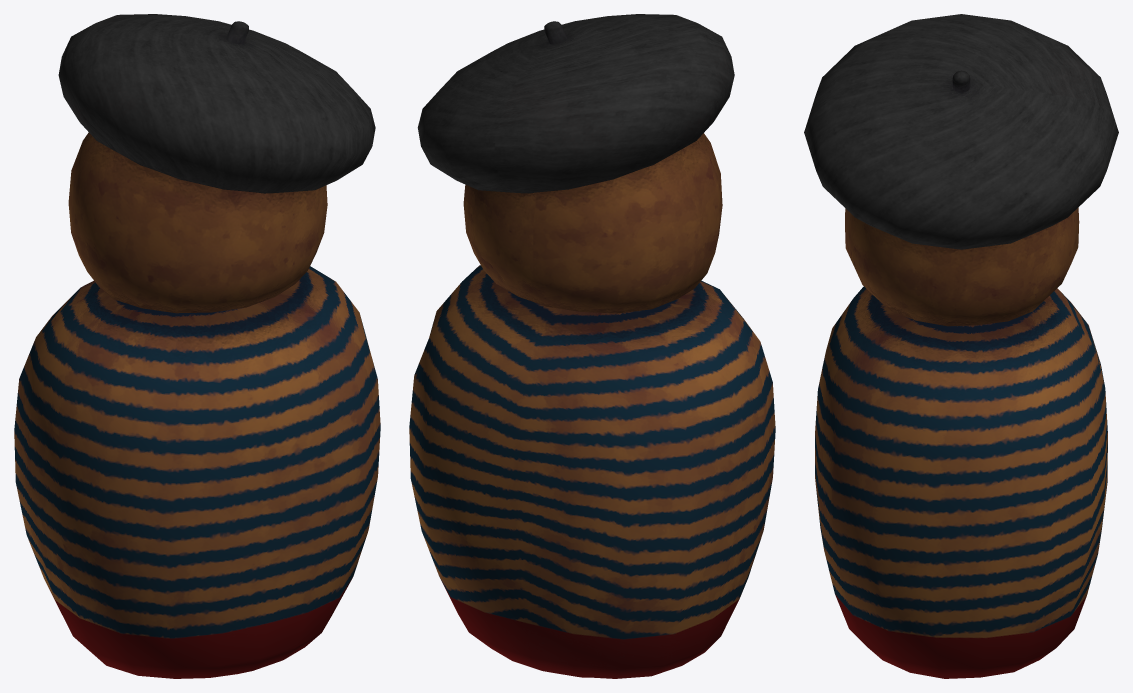
The picture shows the model from 3 angles, left to right: view 1: azimuth 30°, elevation 25°; view 2: azimuth 150°, elevation 25°; view 3: azimuth 270°, elevation 25°; orthographic projection. The views are drawn at different scales.
Bounding box in the file's own units: 0.0964 × 0.1818 × 0.0881.
1 material, 1 textured.
